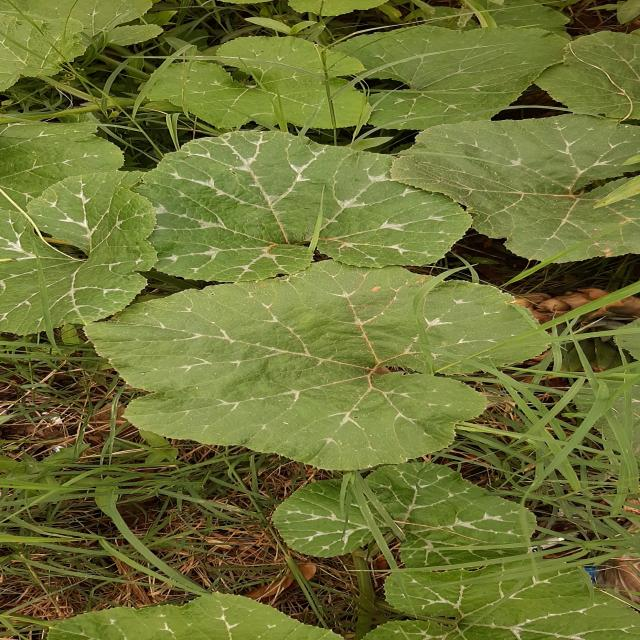pumpkin: (141, 115, 639, 281)
